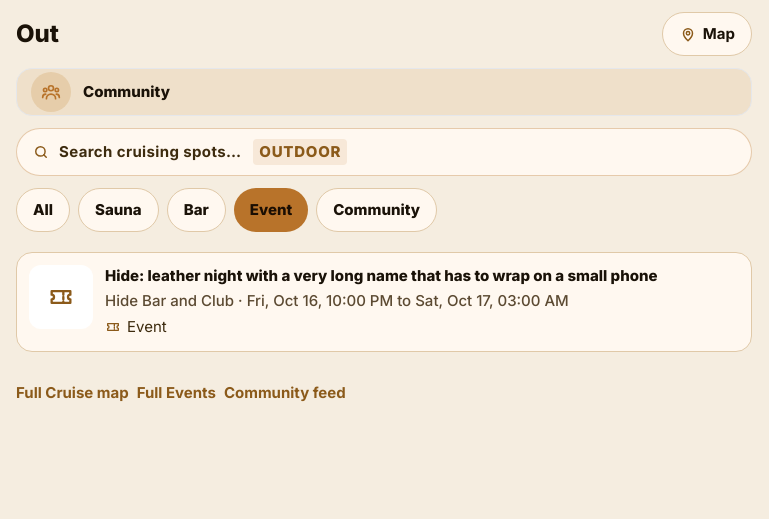
Out event row › Ghost check-in shows the Events wording and no pin line
Click the button with test id "out-event-open-ev-1": (384, 302) [17,253,751,350]
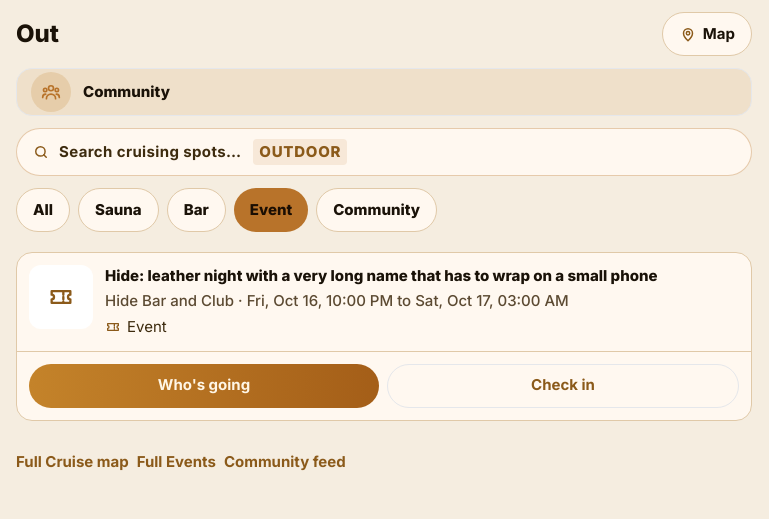
Click the button with test id "event-checkin-ev-1": (563, 386) [387,364,739,408]
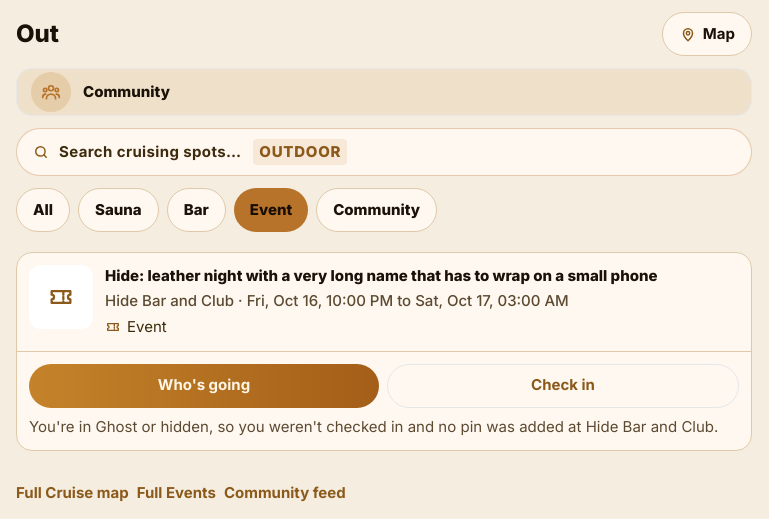
Expected: the message with test id "out-event-notice" shows "You're in Ghost or hidden, so you weren't checked in and no pin was added at Hide Bar and Club.", [29,416,718,436]
